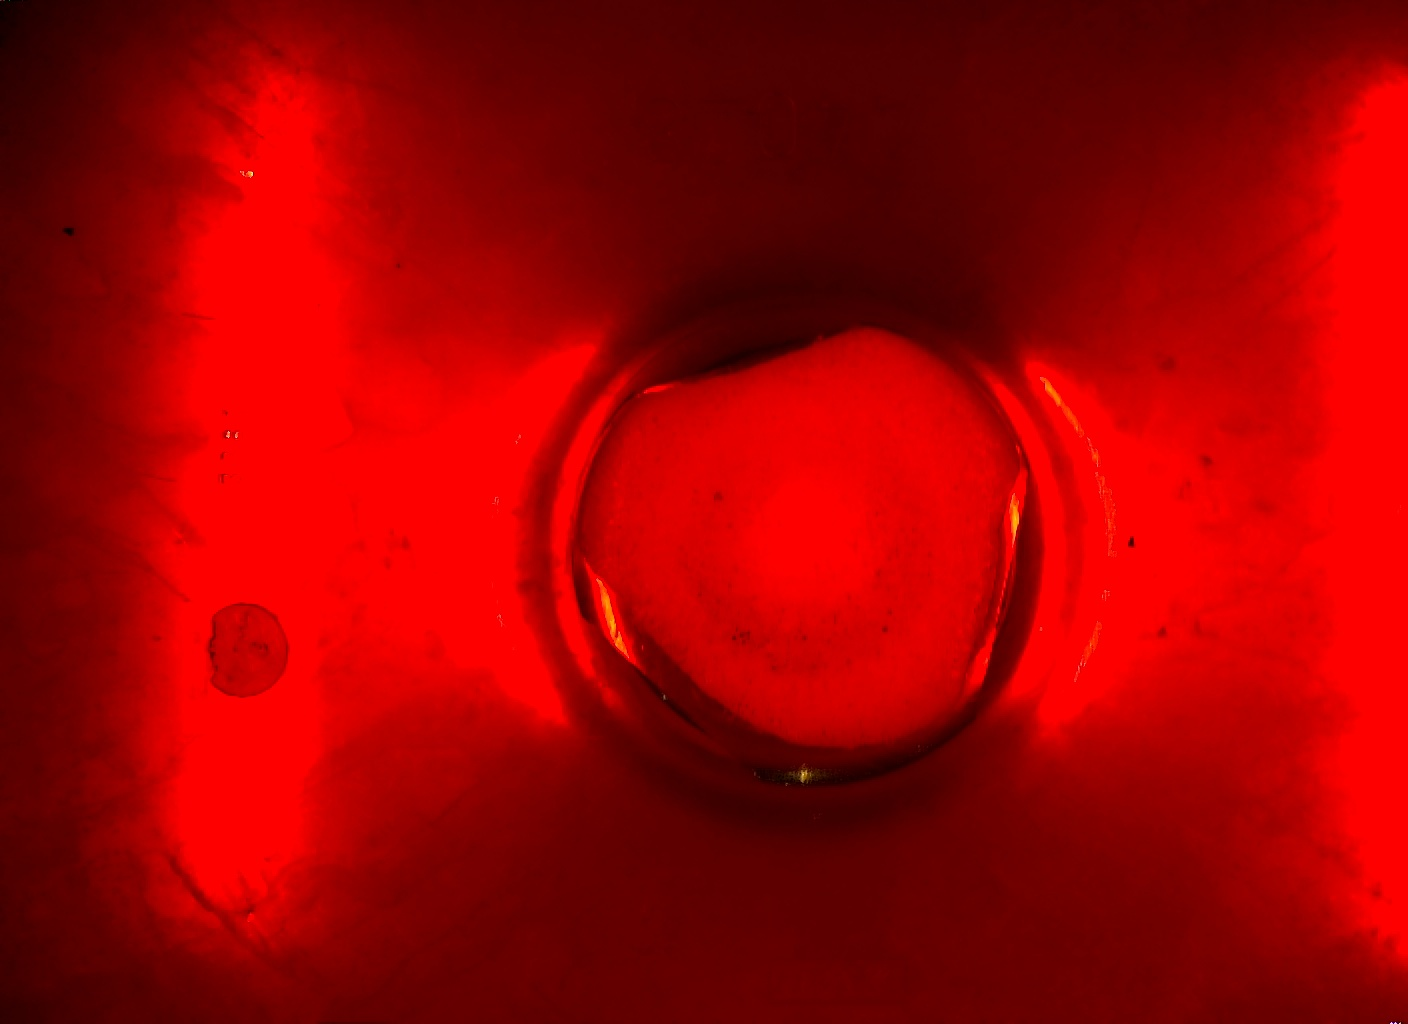shapka: (565, 316, 1046, 809)
